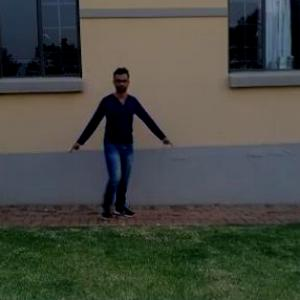land: (65, 64, 178, 235)
